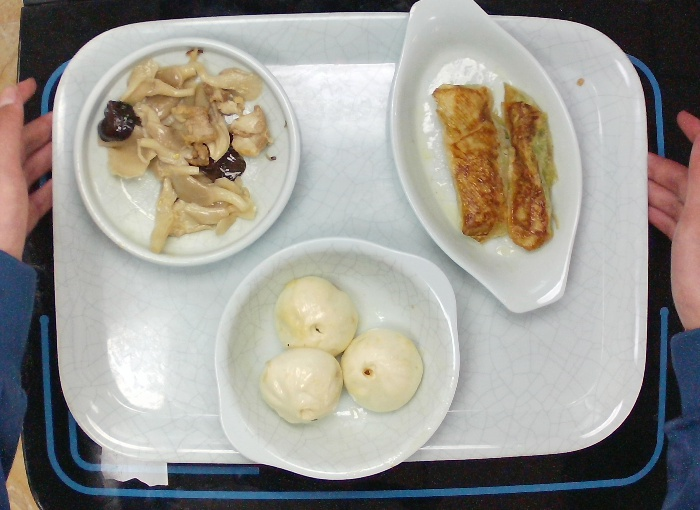JYsf-Shuang_Er_Wan: (209, 233, 465, 483)
JYsf-Xiao_Yuan_Pan: (69, 33, 305, 271)
JYsf-Yu_Pan: (385, 1, 589, 319)
